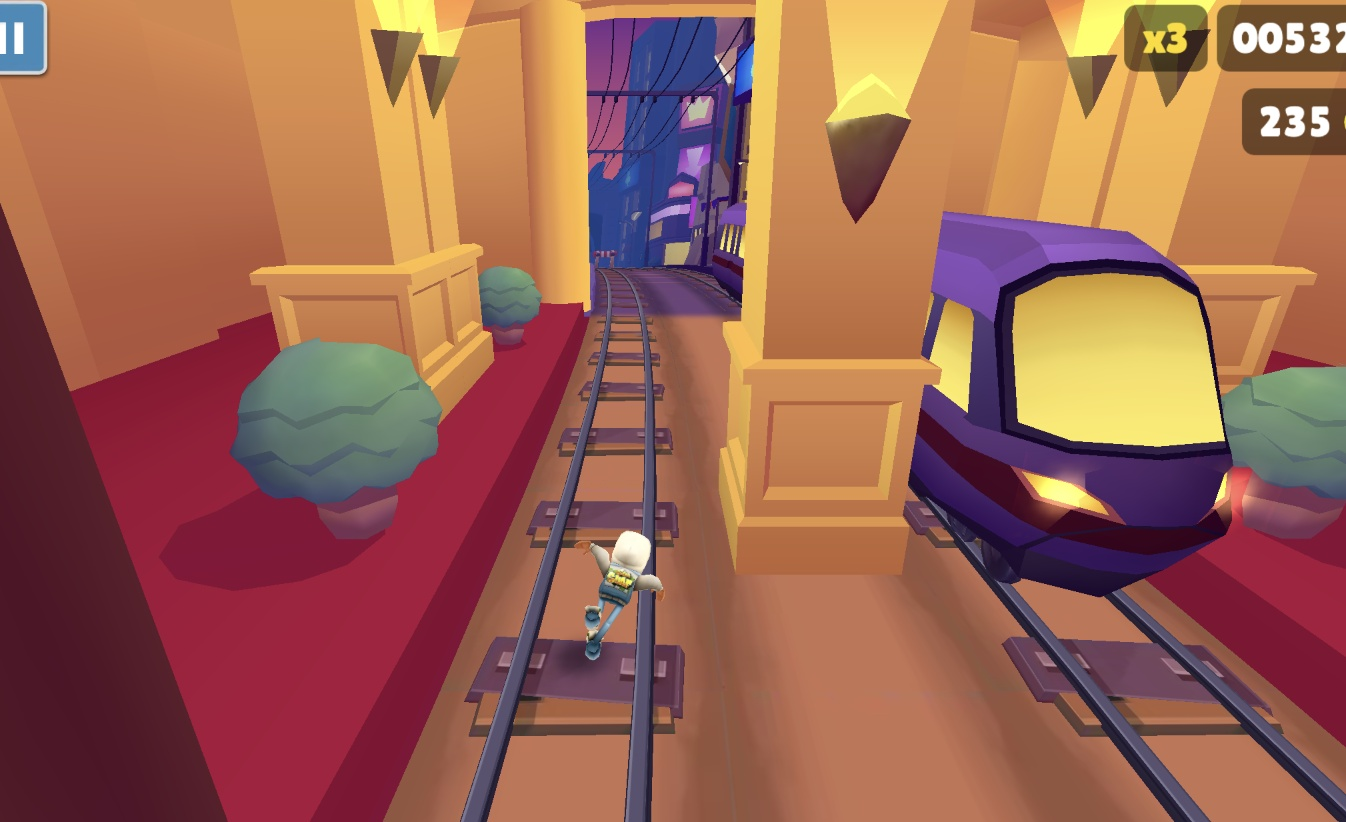ground_barrier: (592, 249, 617, 269)
pillar: (719, 0, 944, 576)
train: (908, 211, 1242, 601)
